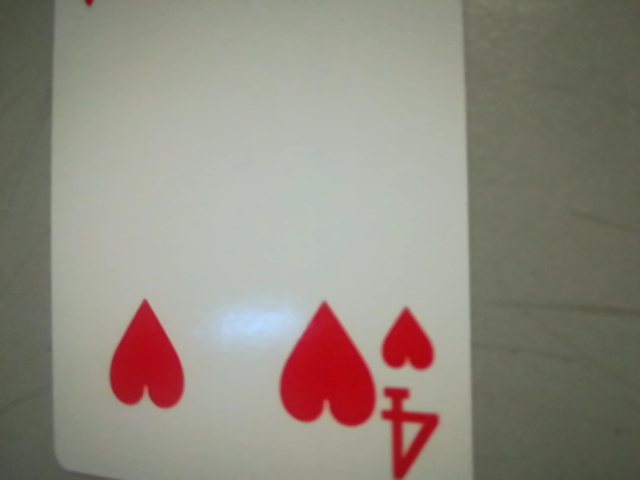hx 4: (367, 293, 464, 480)
